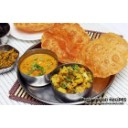poori: (82, 33, 128, 75), (42, 22, 88, 63)
